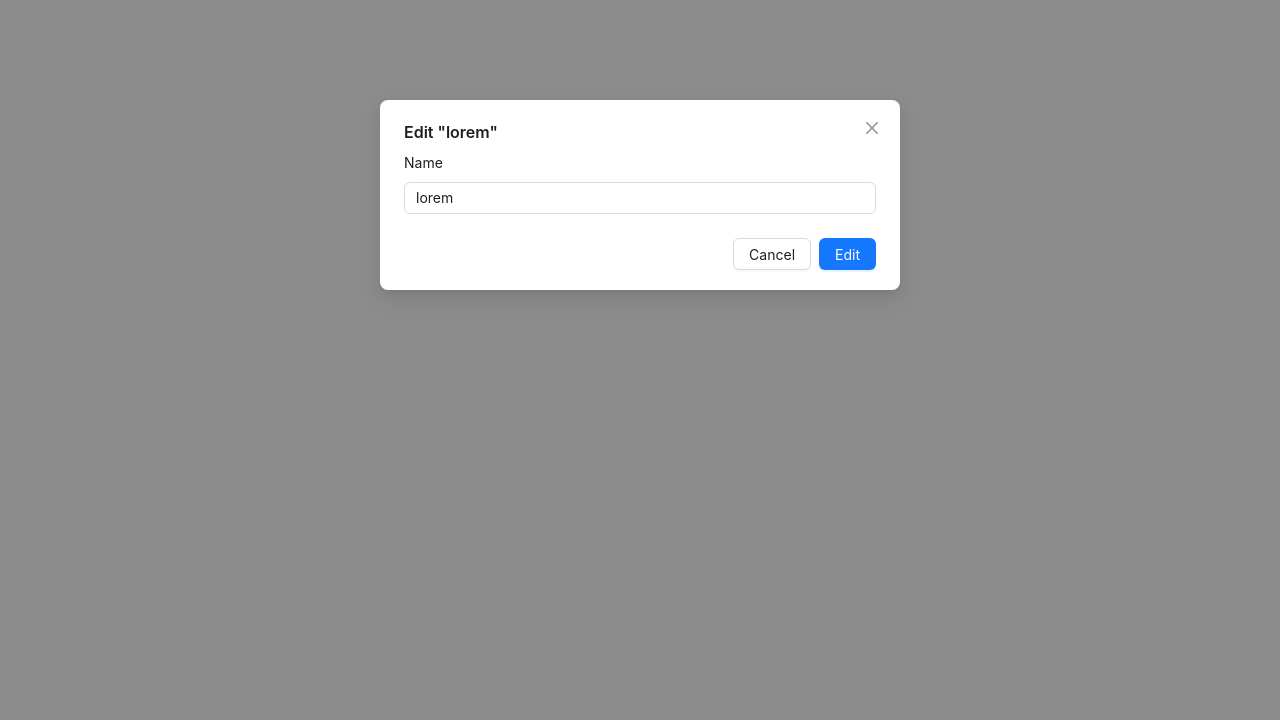
Test: EditTodoModal › should validate unsuccessfully for empty input
Clear the field labelled "Name": (640, 198) [404,182,876,214]
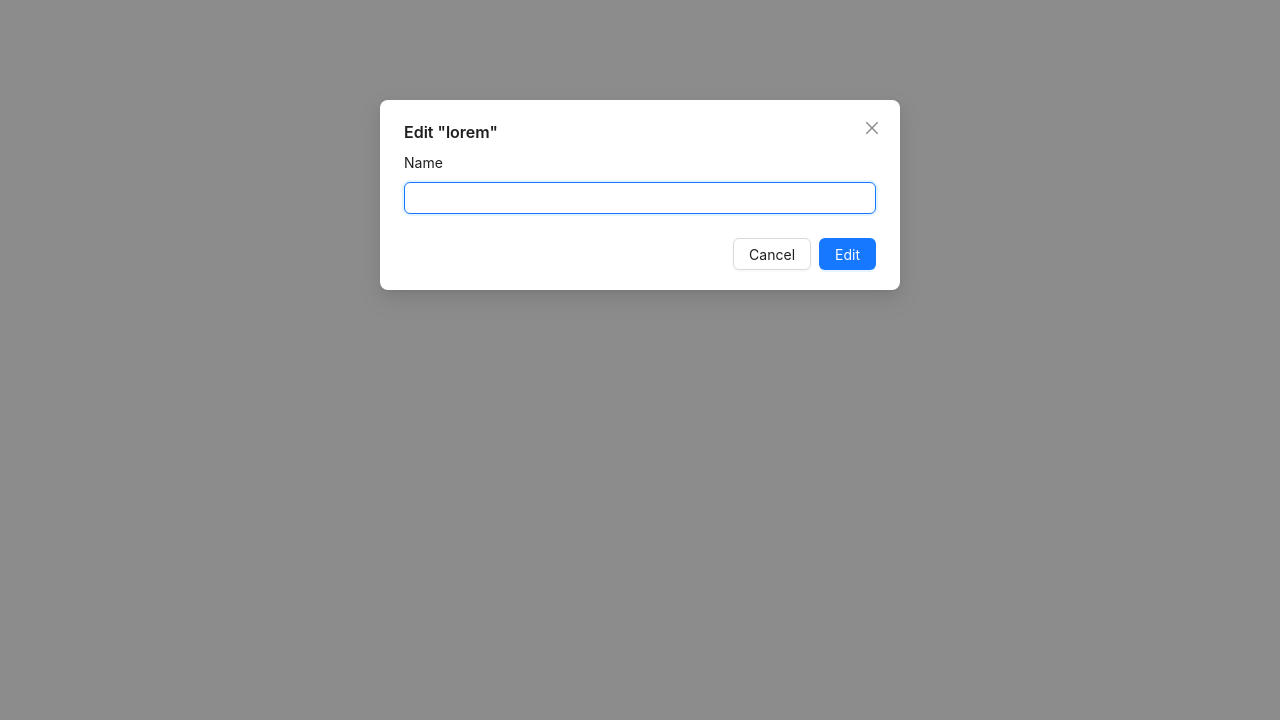
Click the button "Edit": (848, 254) [819,238,876,270]
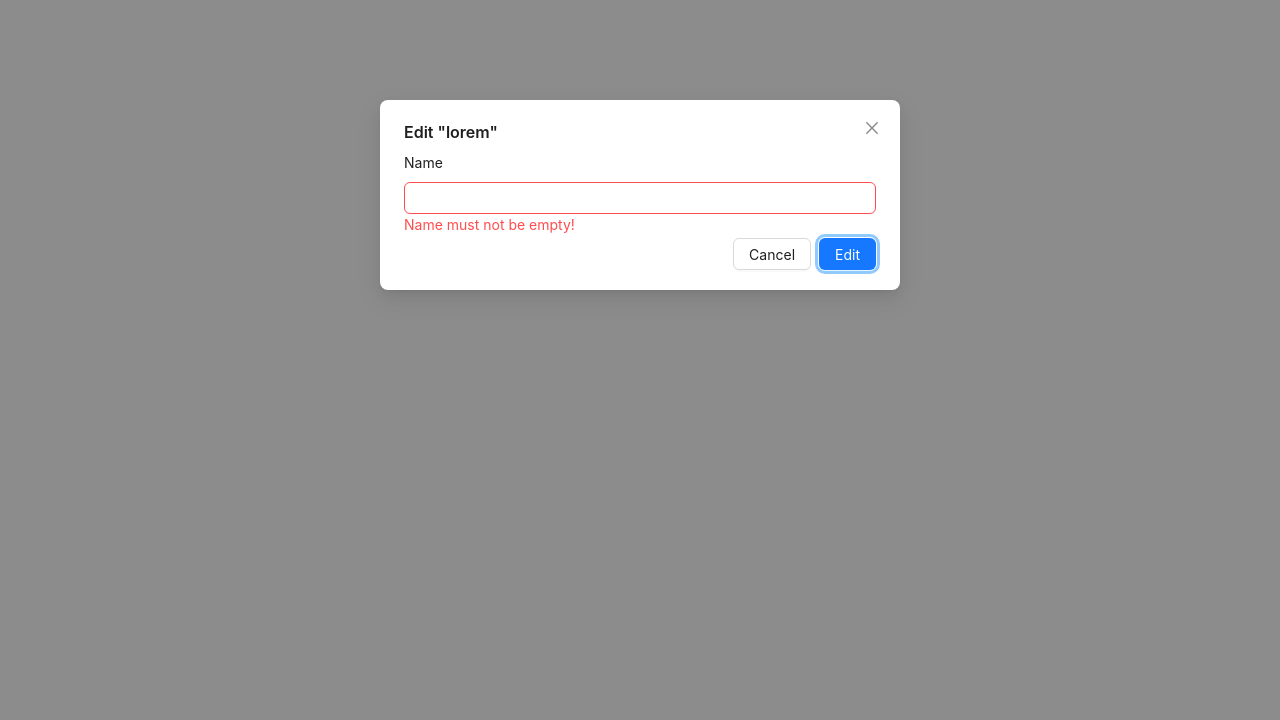
Now the text "Name must not be empty!" is shown, box [404,216,575,233]
